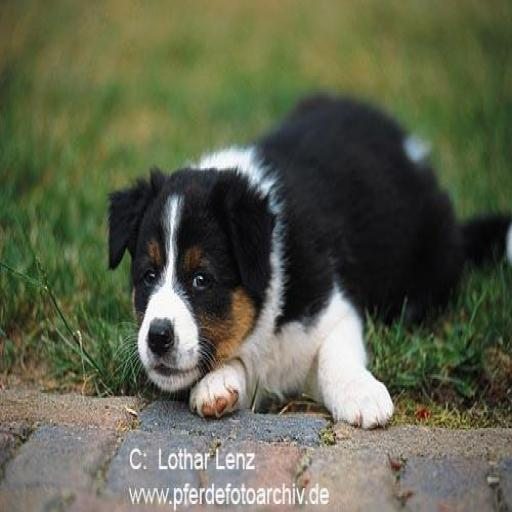dog_face: (106, 159, 278, 391)
